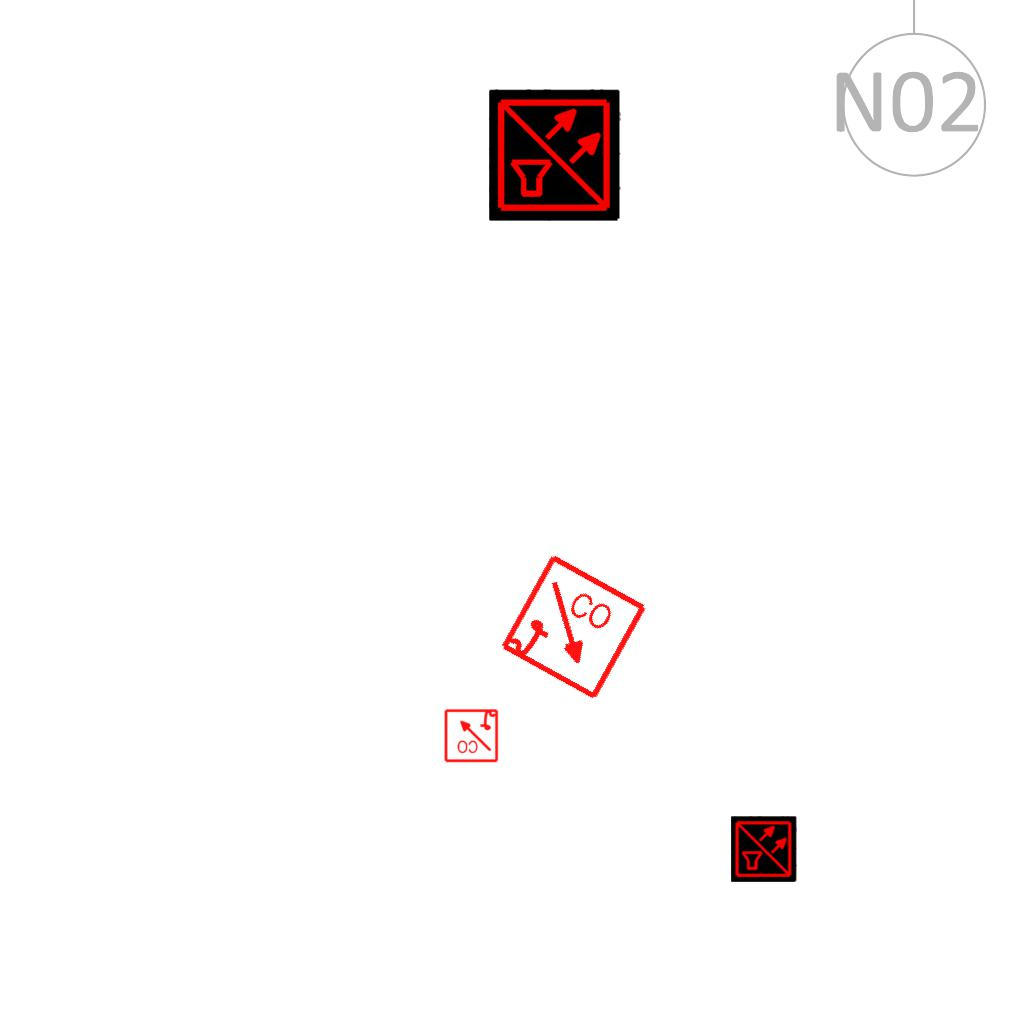OKW_Multisensormelder_(Kombination_optischer_Rauch-Kahlenmonoxid_Waerme-Melder): (489, 89, 621, 221), (731, 816, 797, 882)
ROA_Rauchmelder_optisch_mit_Signalgeber_(Sockelsirene): (496, 551, 651, 706), (443, 707, 499, 763)
